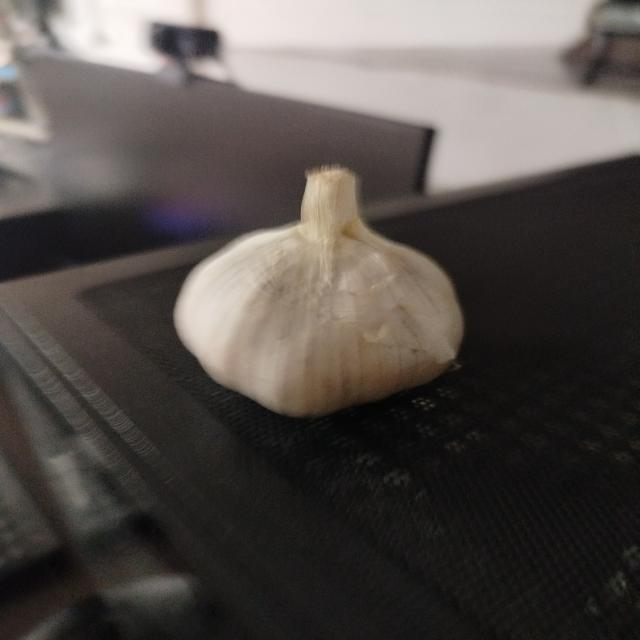garlic: (172, 164, 465, 419)
